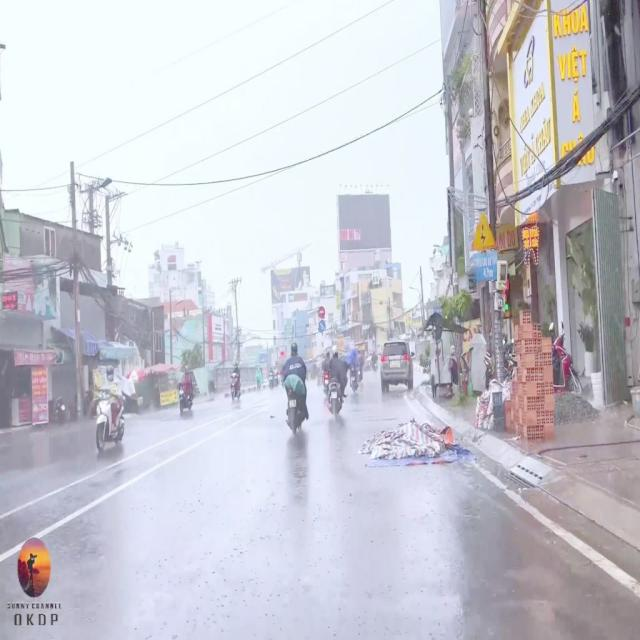cam_xe_di_nguoc_chieu: (318, 305, 326, 320)
huong_phai_di_vuot_chuong_ngai_vat_phai: (318, 319, 326, 333)
khac: (470, 209, 501, 253), (472, 249, 497, 281)
